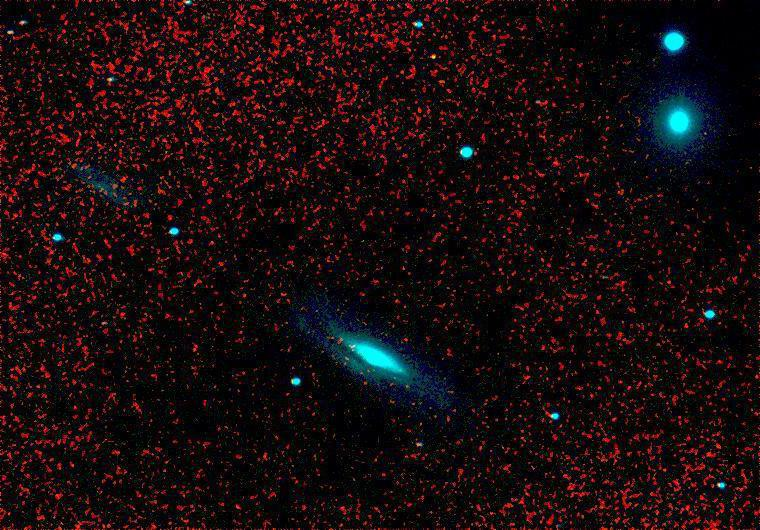star: (425, 37, 455, 67)
